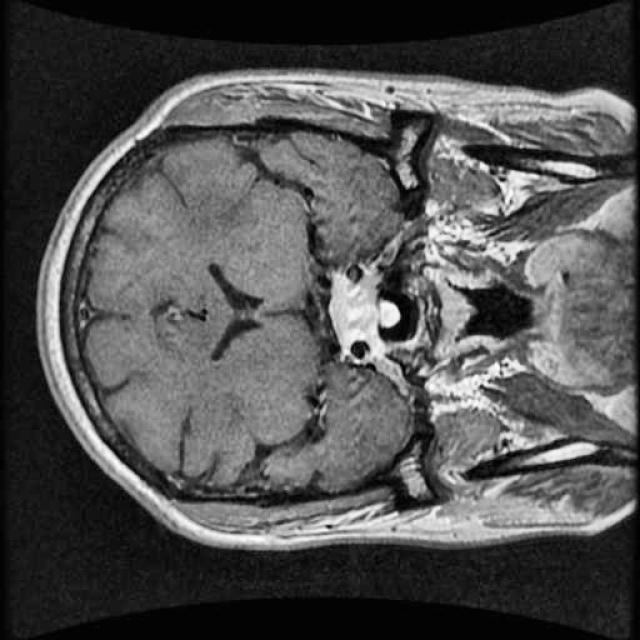Tumor: (316, 270, 399, 354)
